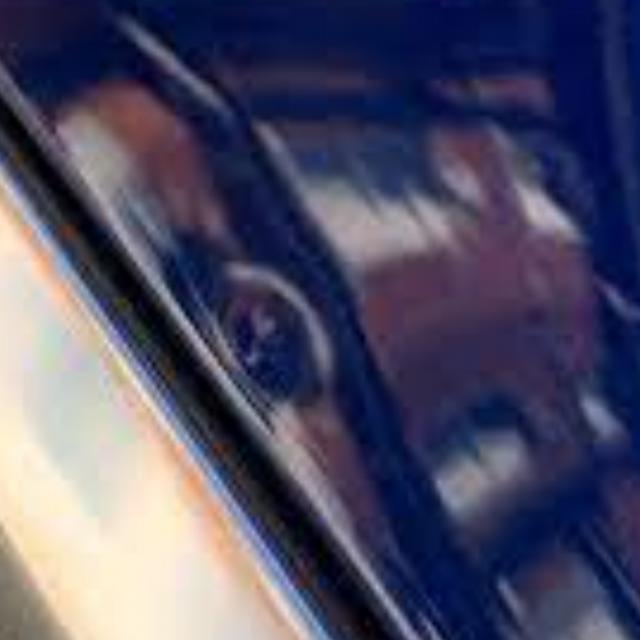dents: (174, 222, 377, 430)
